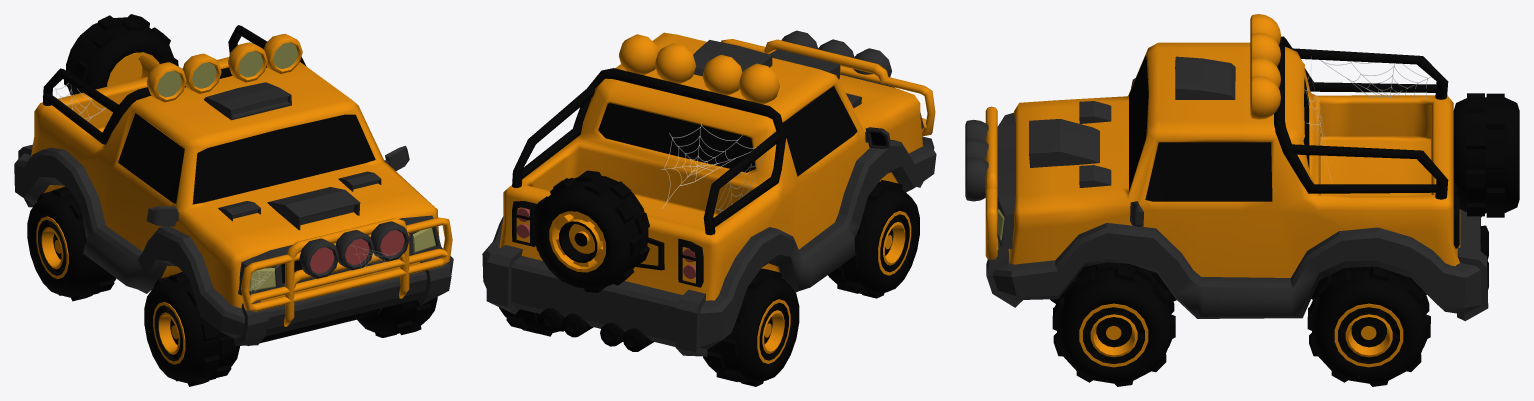
Rendered from Special Events - Ranger Halloween 2021 Horn5.glb.
3 views of the same model, side by side, from view 1: azimuth 30°, elevation 25°; view 2: azimuth 150°, elevation 25°; view 3: azimuth 270°, elevation 25° (orthographic). The views are drawn at different scales.
Visible parts, largest first — view 1: evo4_bodyEvo4:PIV, evo4_Sill_4:PIV, evo4_glassFront:PIV, evo4_pole_front4:PIV, evo4_tireFR:PIV, evo4_tireBack:PIV, evo4_tireBL:PIV, evo4_glassR:PIV, evo4_pole_back4:PIV, evo4_HoleFront:PIV, evo4_HoleFront9:PIV, evo4_tireFL:PIV (+25 smaller); view 2: evo4_bodyEvo4:PIV, evo4_Sill_4:PIV, evo4_tireBack:PIV, evo4_pole_back4:PIV, evo4_glassBack:PIV, evo4_tireBL:PIV, evo4_tireFR:PIV, evo4_glassR:PIV, evo4_pole_front4:PIV, evo4_rimBack:PIV, evo4_rimBR:PIV, evo4_rimFR:PIV (+15 smaller); view 3: evo4_bodyEvo4:PIV, evo4_Sill_4:PIV, evo4_tireFL:PIV, evo4_tireBR:PIV, evo4_tireBack:PIV, evo4_pole_back4:PIV, evo4_glassL:PIV, evo4_rimFL:PIV, evo4_rimBL:PIV, evo4_HoleFront:PIV, evo4_HoleFront9:PIV, evo4_blockFront:PIV (+10 smaller).
Boxes of the visible parts, bbox=[...] form: evo4_bodyEvo4:PIV: bbox=[31, 57, 439, 308]; evo4_Sill_4:PIV: bbox=[14, 144, 453, 345]; evo4_glassFront:PIV: bbox=[192, 114, 375, 204]; evo4_pole_front4:PIV: bbox=[241, 217, 452, 326]; evo4_tireFR:PIV: bbox=[144, 272, 239, 386]; evo4_tireBack:PIV: bbox=[64, 14, 178, 95]; evo4_tireBL:PIV: bbox=[27, 186, 116, 301]; evo4_glassR:PIV: bbox=[118, 113, 184, 203]; evo4_pole_back4:PIV: bbox=[42, 25, 306, 144]; evo4_HoleFront:PIV: bbox=[267, 187, 360, 230]; evo4_HoleFront9:PIV: bbox=[204, 82, 291, 120]; evo4_tireFL:PIV: bbox=[357, 297, 437, 337]; evo4_bodyEvo4:PIV: bbox=[499, 32, 922, 300]; evo4_Sill_4:PIV: bbox=[482, 136, 936, 356]; evo4_tireBack:PIV: bbox=[533, 170, 649, 292]; evo4_pole_back4:PIV: bbox=[512, 68, 786, 235]; evo4_glassBack:PIV: bbox=[598, 103, 755, 172]; evo4_tireBL:PIV: bbox=[703, 268, 799, 386]; evo4_tireFR:PIV: bbox=[828, 180, 919, 298]; evo4_glassR:PIV: bbox=[783, 86, 857, 176]; evo4_pole_front4:PIV: bbox=[721, 39, 935, 136]; evo4_rimBack:PIV: bbox=[549, 211, 605, 272]; evo4_rimBR:PIV: bbox=[757, 299, 790, 363]; evo4_rimFR:PIV: bbox=[878, 211, 911, 275]; evo4_bodyEvo4:PIV: bbox=[1008, 42, 1460, 277]; evo4_Sill_4:PIV: bbox=[986, 209, 1488, 321]; evo4_tireFL:PIV: bbox=[1052, 262, 1175, 386]; evo4_tireBR:PIV: bbox=[1307, 266, 1430, 386]; evo4_tireBack:PIV: bbox=[1453, 93, 1519, 217]; evo4_pole_back4:PIV: bbox=[1274, 36, 1448, 199]; evo4_glassL:PIV: bbox=[1145, 142, 1272, 201]; evo4_rimFL:PIV: bbox=[1079, 303, 1148, 367]; evo4_rimBL:PIV: bbox=[1334, 303, 1403, 367]; evo4_HoleFront:PIV: bbox=[1029, 119, 1099, 167]; evo4_HoleFront9:PIV: bbox=[1175, 56, 1235, 99]; evo4_blockFront:PIV: bbox=[997, 112, 1015, 249].
Bounding box in the file's own units: 187 × 175 × 315.
8 materials, 2 textured.
